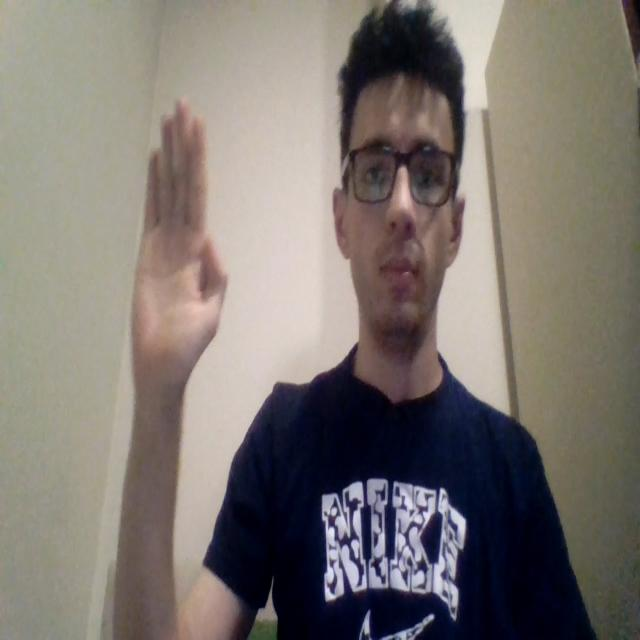hello: (129, 95, 229, 402)
